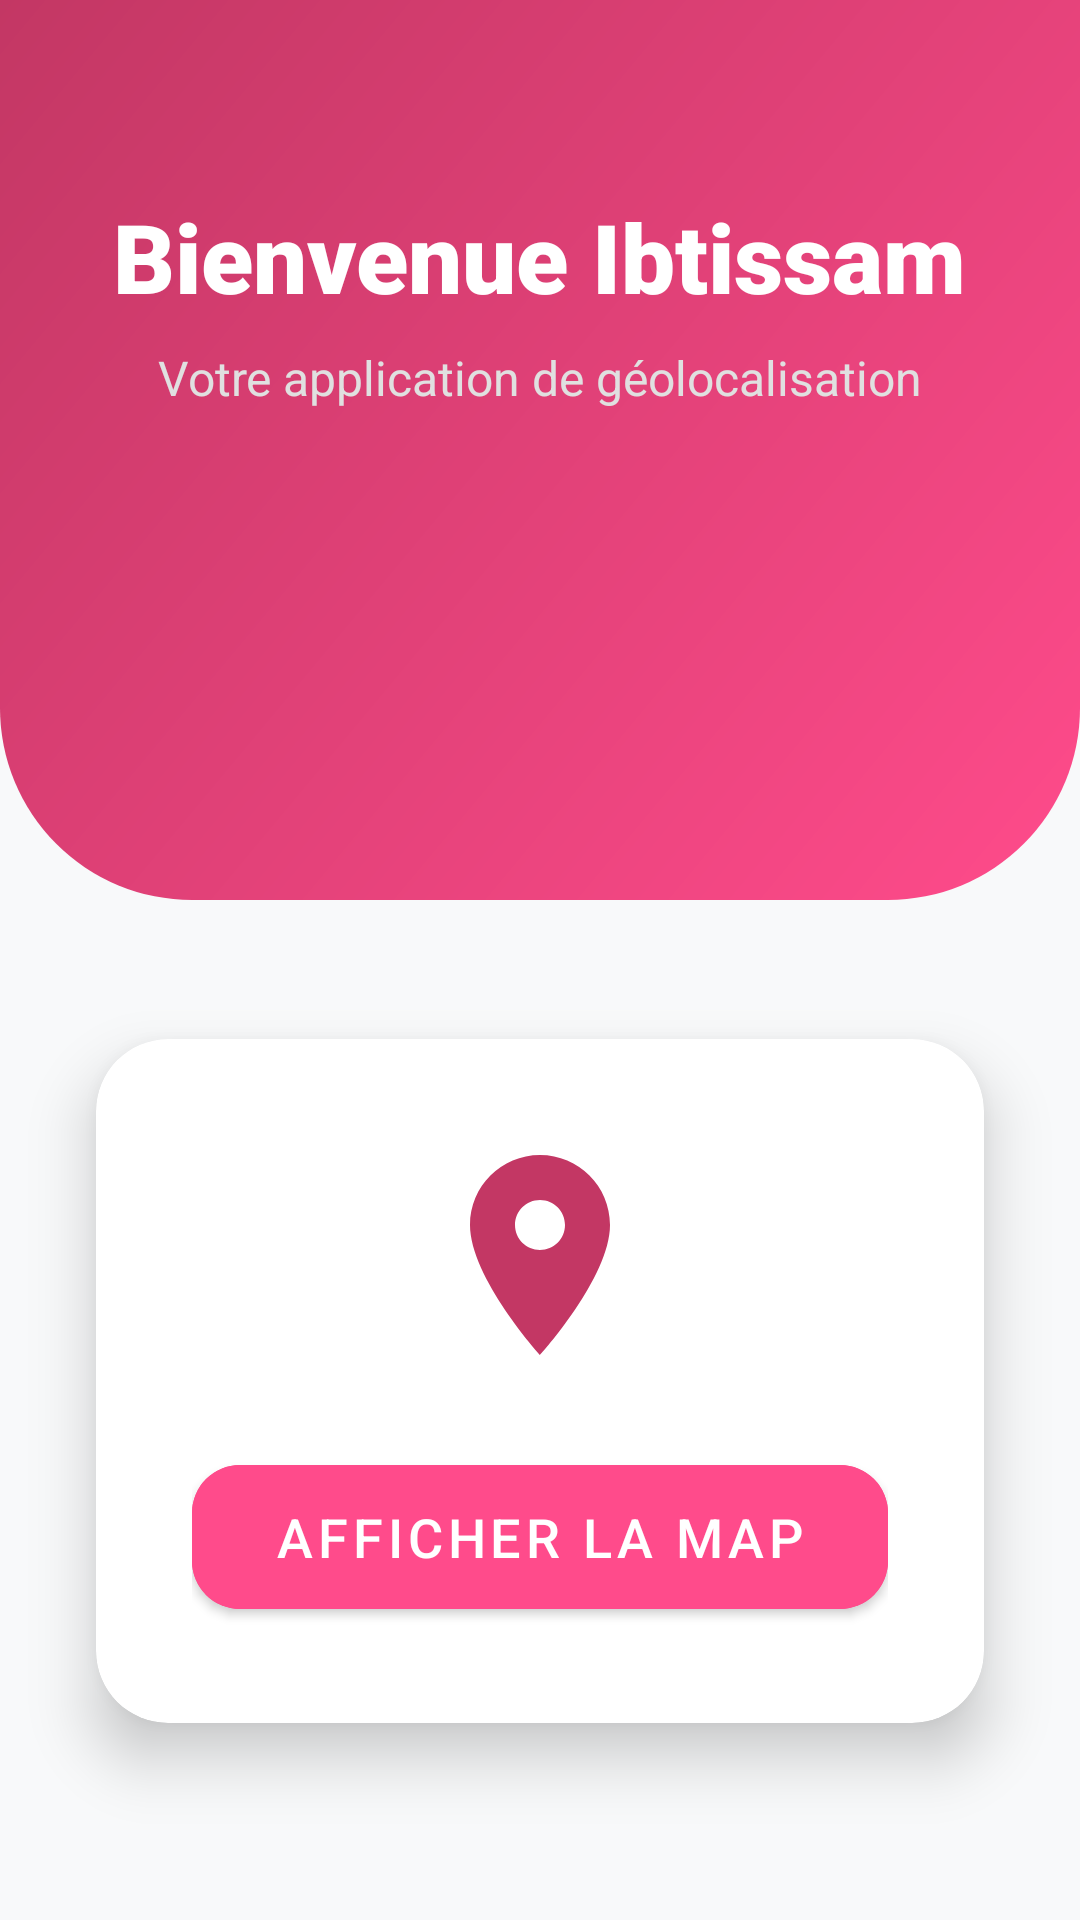

Icons on this 1080x1920 Android screen, each with the point to tap as [x,y]:
marker ibtissam: [540,1255]
